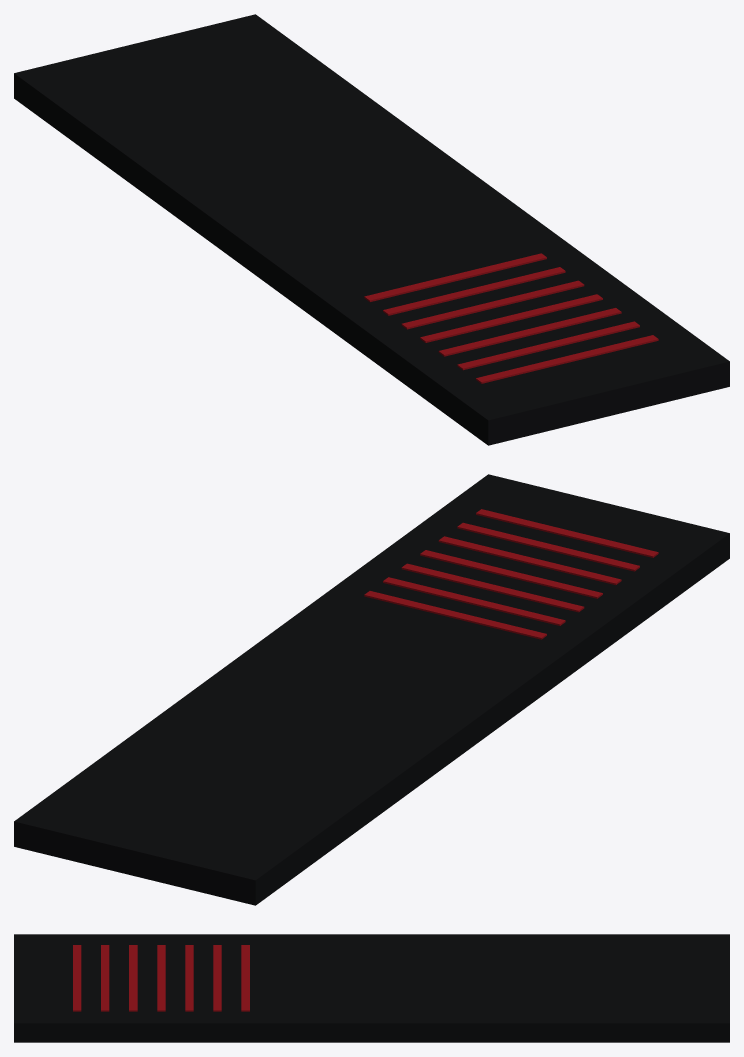
Rendered from L32_VRM_ARMOR.fbx.
3 views of the same model, one above another, from view 1: azimuth 30°, elevation 25°; view 2: azimuth 150°, elevation 25°; view 3: azimuth 270°, elevation 25° (orthographic). The views are drawn at different scales.
Visible parts, largest first — view 1: VRM_ARMOR_Black, VRM_ARMOR_Red; view 2: VRM_ARMOR_Black, VRM_ARMOR_Red; view 3: VRM_ARMOR_Black, VRM_ARMOR_Red.
Boxes of the visible parts, <box> form: VRM_ARMOR_Black: <box>14,14,729,445</box>; VRM_ARMOR_Red: <box>364,253,658,383</box>; VRM_ARMOR_Black: <box>14,474,729,905</box>; VRM_ARMOR_Red: <box>364,509,658,639</box>; VRM_ARMOR_Black: <box>14,934,729,1042</box>; VRM_ARMOR_Red: <box>73,945,249,1011</box>.
Size of the model in its own units: 3 by 0.32 by 10.2.
